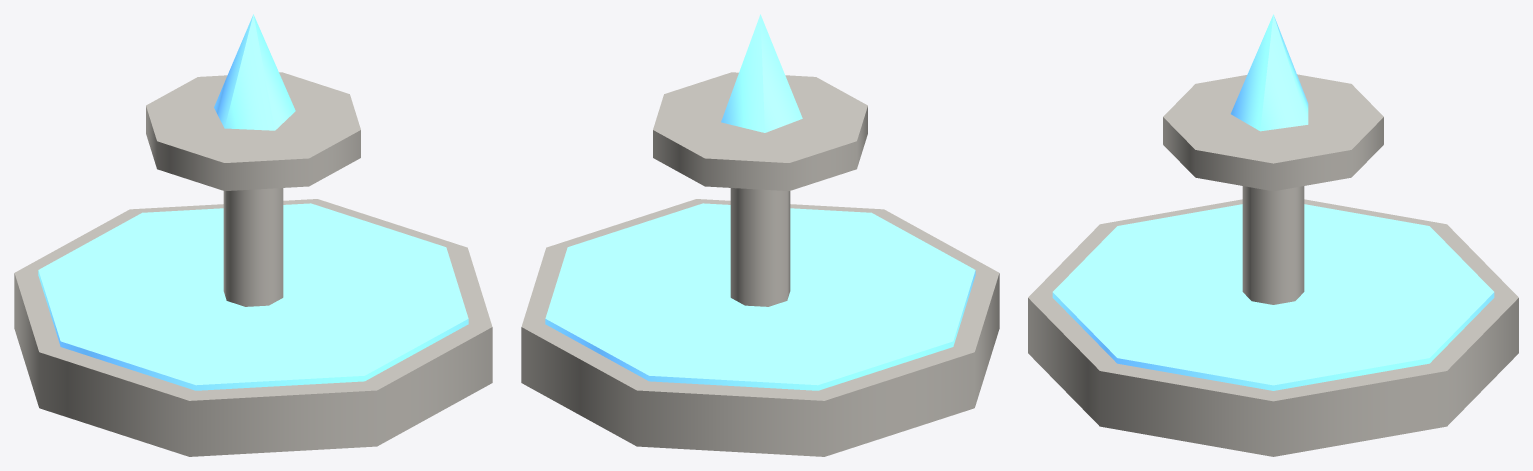
Rendered from fountain.glb.
The picture shows the model from 3 angles, left to right: view 1: azimuth 30°, elevation 25°; view 2: azimuth 150°, elevation 25°; view 3: azimuth 270°, elevation 25°; orthographic projection.
Parts seen in each view (by area): view 1: gardens fountain; view 2: gardens fountain; view 3: gardens fountain.
Boxes of the visible parts, left/top/right/bottom form: gardens fountain: left=14, top=14, right=492, bottom=456; gardens fountain: left=521, top=14, right=999, bottom=456; gardens fountain: left=1028, top=14, right=1518, bottom=456.
Bounding box in the file's own units: 4 × 3.05 × 4.
